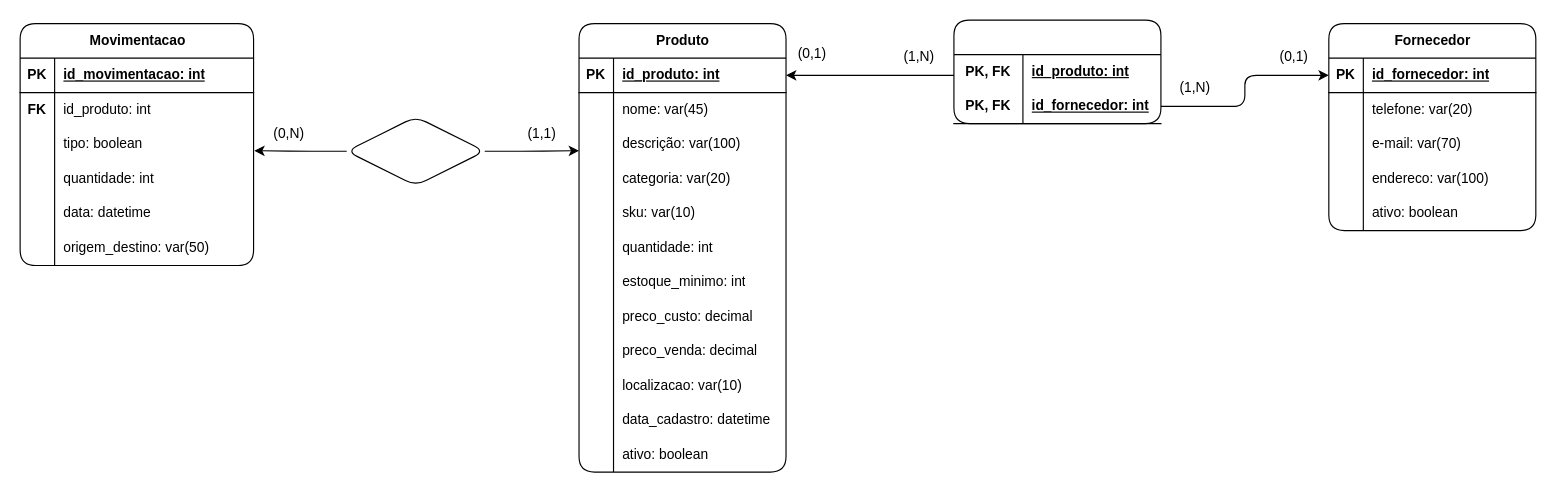
Image size: 1556x492. Some labels were removed from this diagram. Here are the shapes that lost their labels. From the top down, the box of each, then its label:
(953, 19, 1161, 124): Produto_Fornecedor
(346, 116, 485, 186): Pussui
